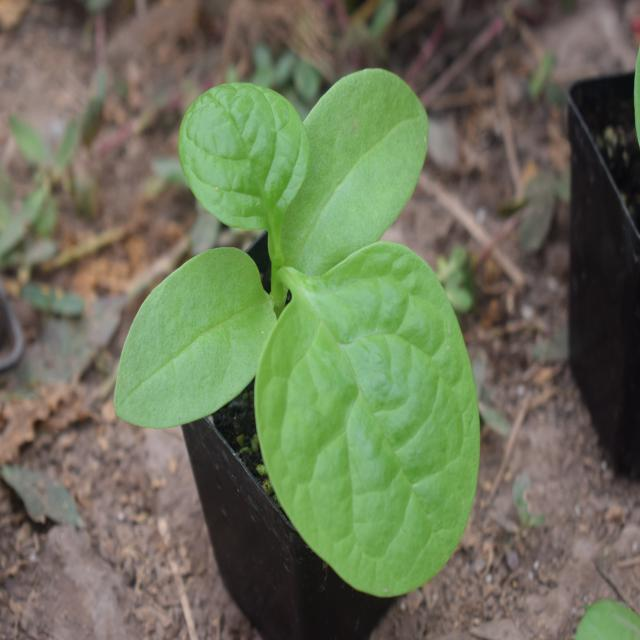Ceylon spinach: (155, 65, 484, 565)
